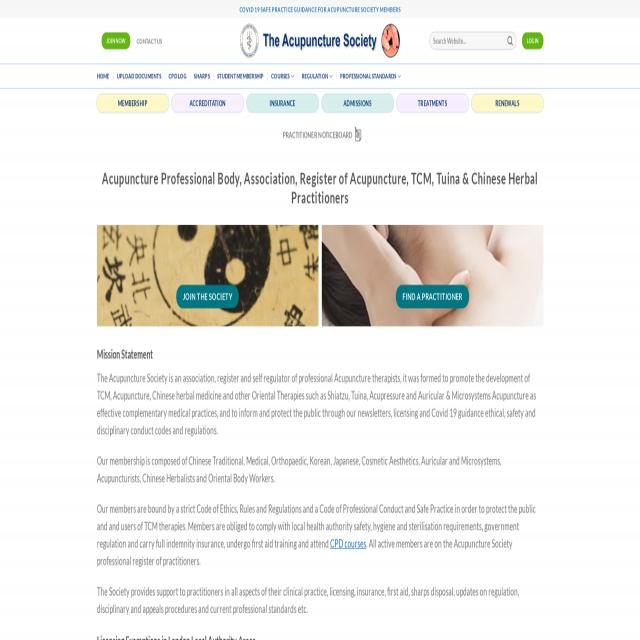button: (238, 22, 402, 59), (396, 284, 469, 308), (176, 284, 239, 308), (340, 64, 401, 88), (471, 94, 544, 112), (96, 94, 169, 112), (171, 94, 244, 112), (246, 94, 319, 112), (321, 94, 394, 112), (396, 94, 469, 112), (218, 64, 264, 88), (117, 64, 161, 88), (302, 64, 332, 88), (272, 64, 294, 88), (102, 32, 130, 49), (169, 64, 187, 88), (194, 64, 210, 88), (522, 32, 544, 49), (97, 64, 109, 88), (504, 31, 516, 51)
field: (429, 32, 516, 49)
